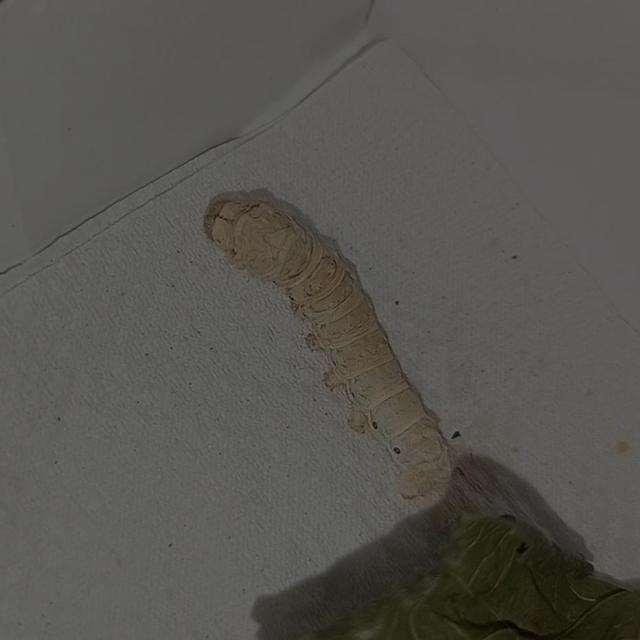Healthy: (190, 170, 479, 540)
